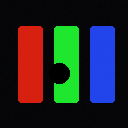2 circle: (49, 63, 69, 83)
